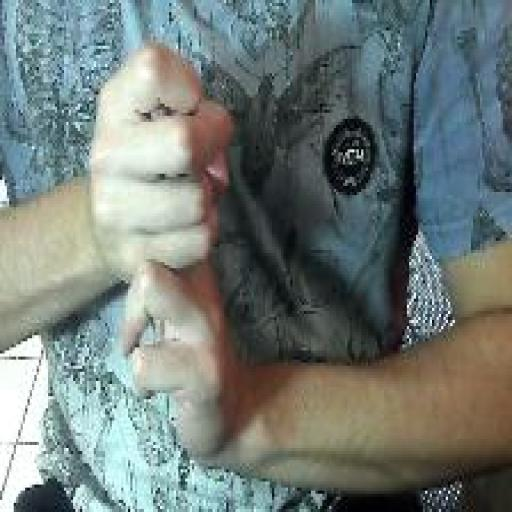Ne -rat-: (86, 35, 243, 465)
